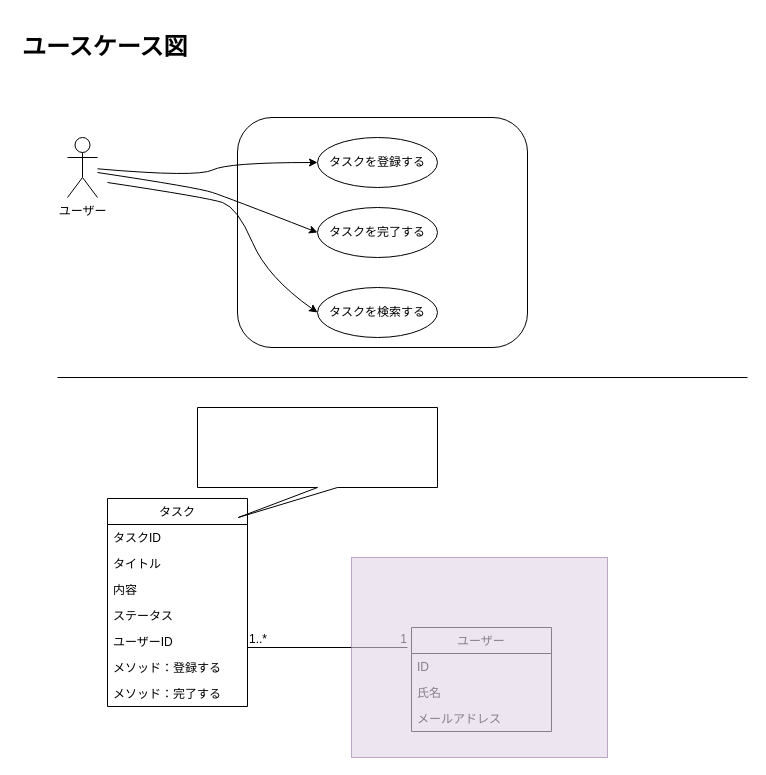
Image size: 766x775. Some labels were removed from this diagram. Here are the shapes that lost their labels. From the top down, the centre of each, then its label:
point 317,462: ステータスは未完了と完了がある ステータスは未完了から作成される
point 479,657: 今は使わない
